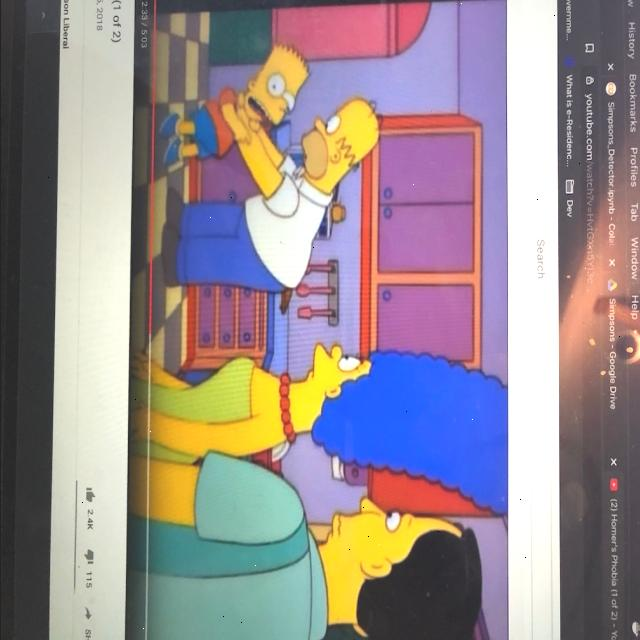Bart Simpson: (238, 41, 312, 130)
Homer Simpson: (297, 96, 384, 196)
Marge Simpson: (277, 339, 509, 519)
